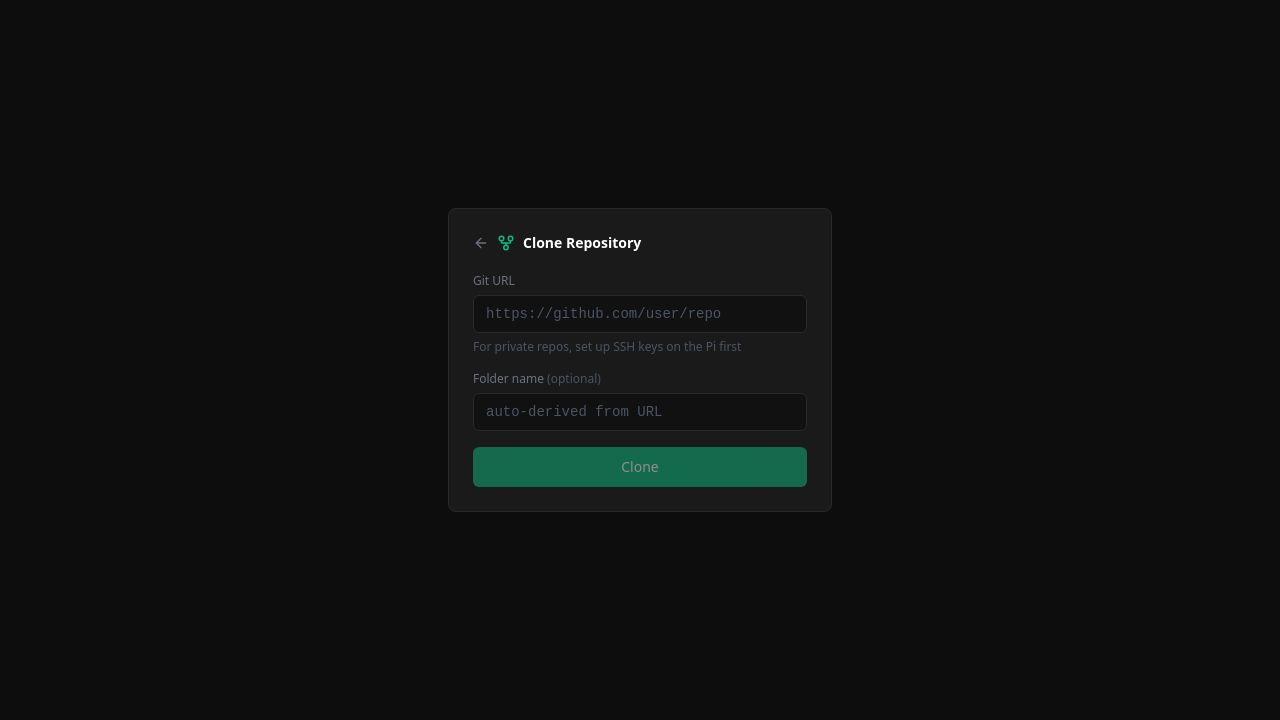
Test case: CloneDialog › shows error message on clone failure
Type "https://github.com/user/bad-repo" into the field with placeholder "https://github.com/user/repo" at point(640, 314), box [473,295,807,333]
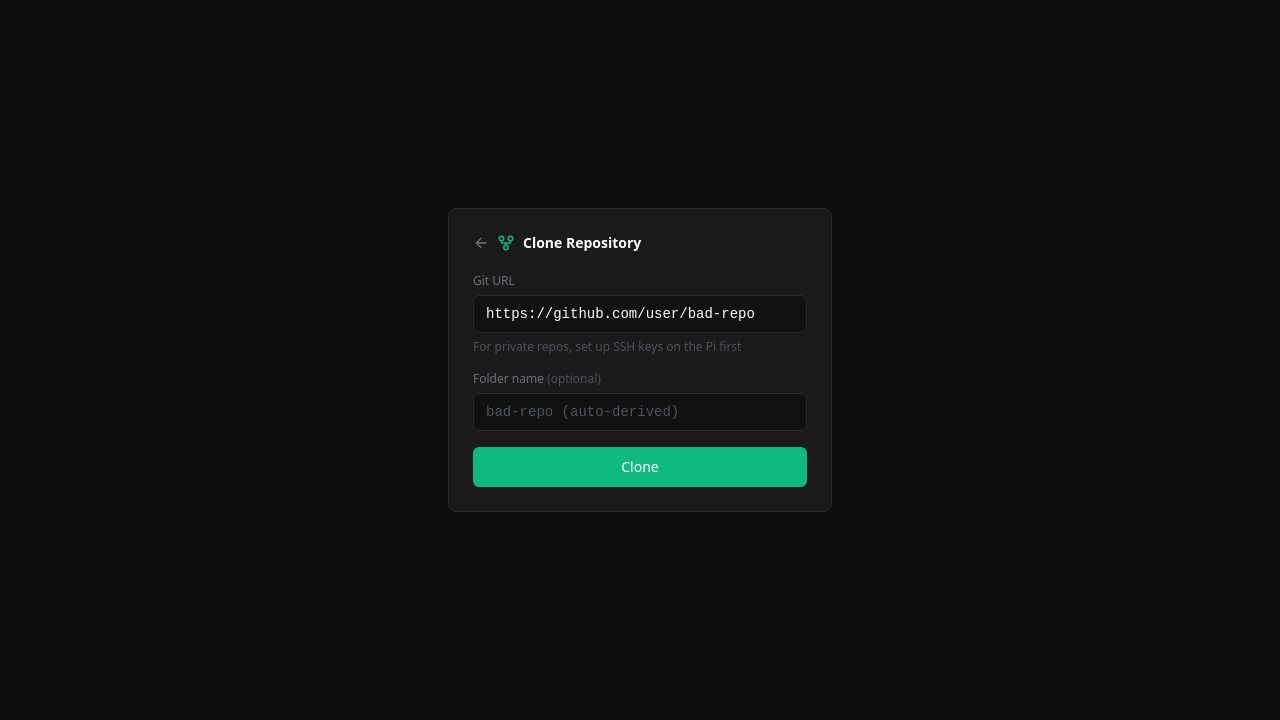
Click the button "Clone" at point(640, 467), box [473,447,807,487]
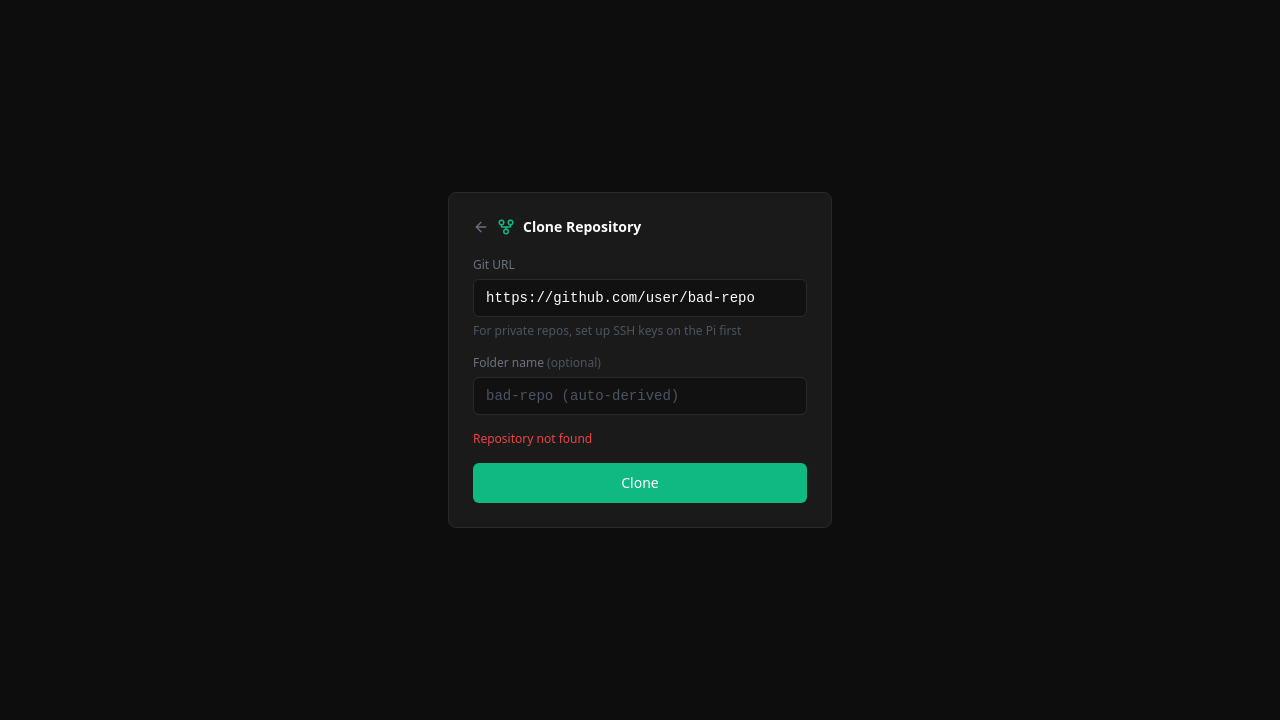
Now the text "Repository not found" is shown, box [473,430,592,447]
